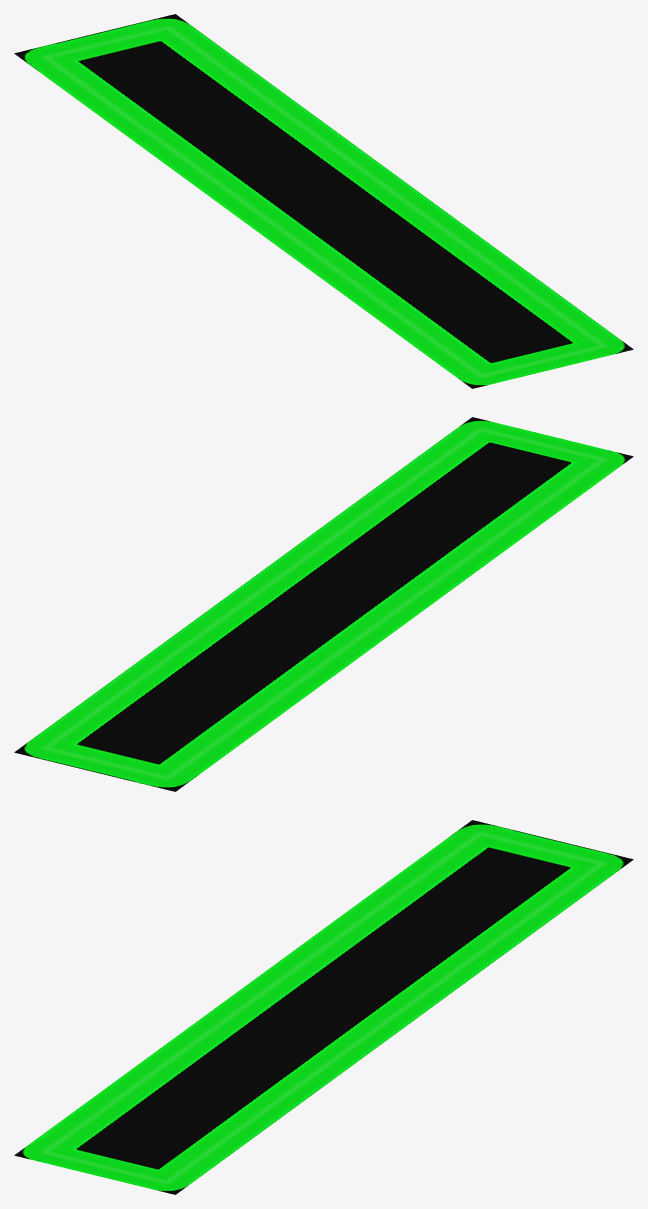
The model's file is highlight.fbx.
3 views of the same model, one above another, from view 1: azimuth 30°, elevation 25°; view 2: azimuth 150°, elevation 25°; view 3: azimuth 330°, elevation 25° (orthographic).
Parts seen in each view (by area): view 1: Plane; view 2: Plane; view 3: Plane.
Boxes of the visible parts, <box> form: Plane: <box>14,14,633,388</box>; Plane: <box>14,417,633,791</box>; Plane: <box>14,820,633,1194</box>.
Bounding box in the file's own units: 1.45 × 1.16e-06 × 7.12.
